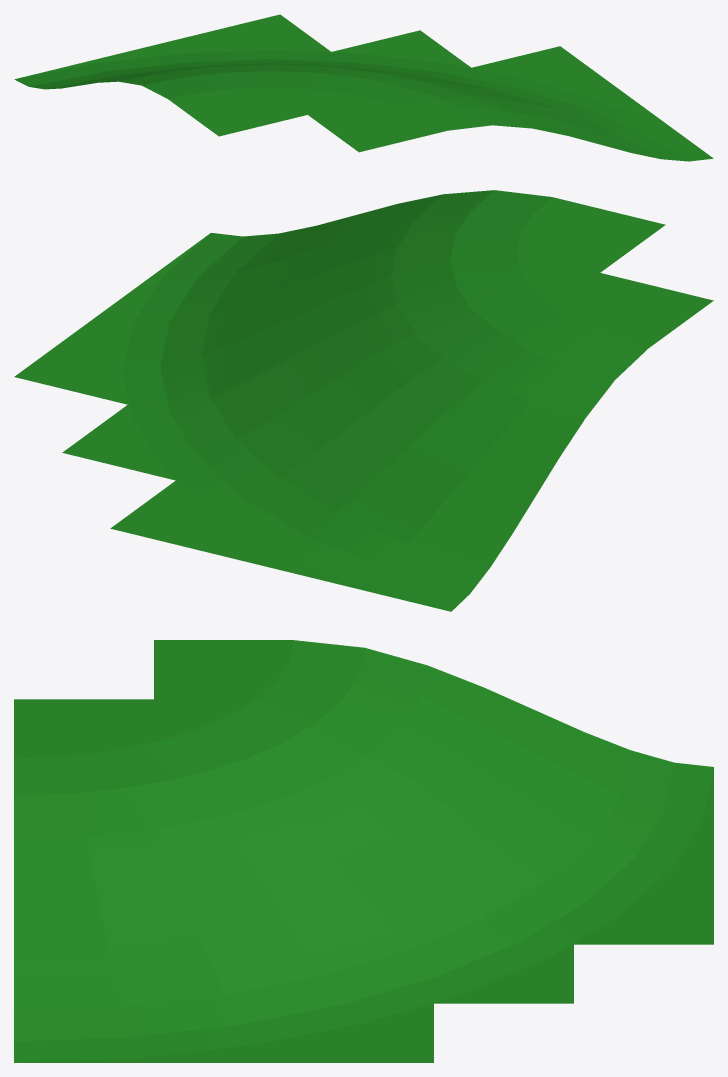
File: Terrain_Hill_Corner_Outer_5x5.obj
3 renders of one model, top to bottom at view 1: azimuth 30°, elevation 25°; view 2: azimuth 150°, elevation 25°; view 3: azimuth 270°, elevation 25°, orthographic. The views are drawn at different scales.
Visible parts, largest first — view 1: Grass; view 2: Grass; view 3: Grass.
Boxes of the visible parts, x1=… form: Grass: x1=14, y1=14, x2=713, y2=161; Grass: x1=14, y1=190, x2=713, y2=611; Grass: x1=14, y1=640, x2=713, y2=1062.
Bounding box in the file's own units: 5 × 1 × 5.
